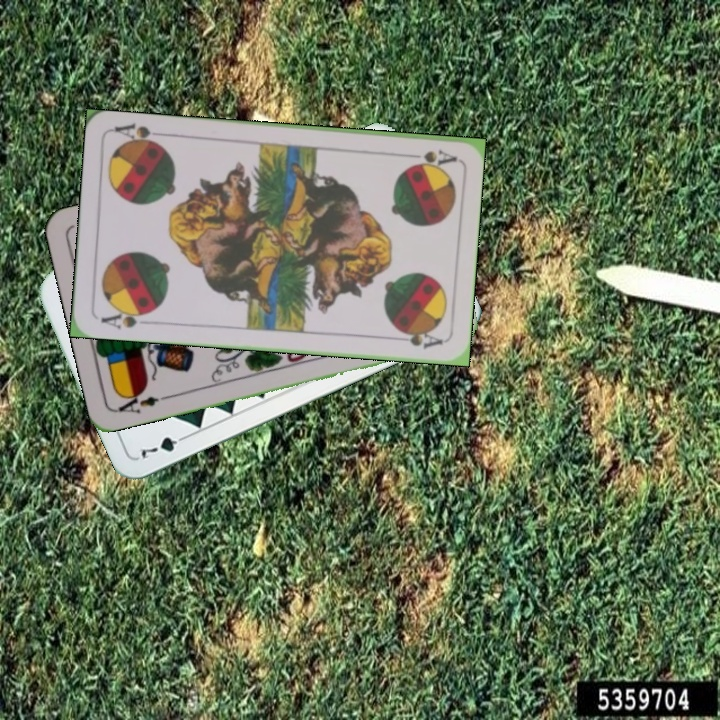EA: (113, 387, 161, 417)
G7: (136, 430, 192, 462)
SA: (97, 304, 156, 332), (399, 145, 458, 169)
